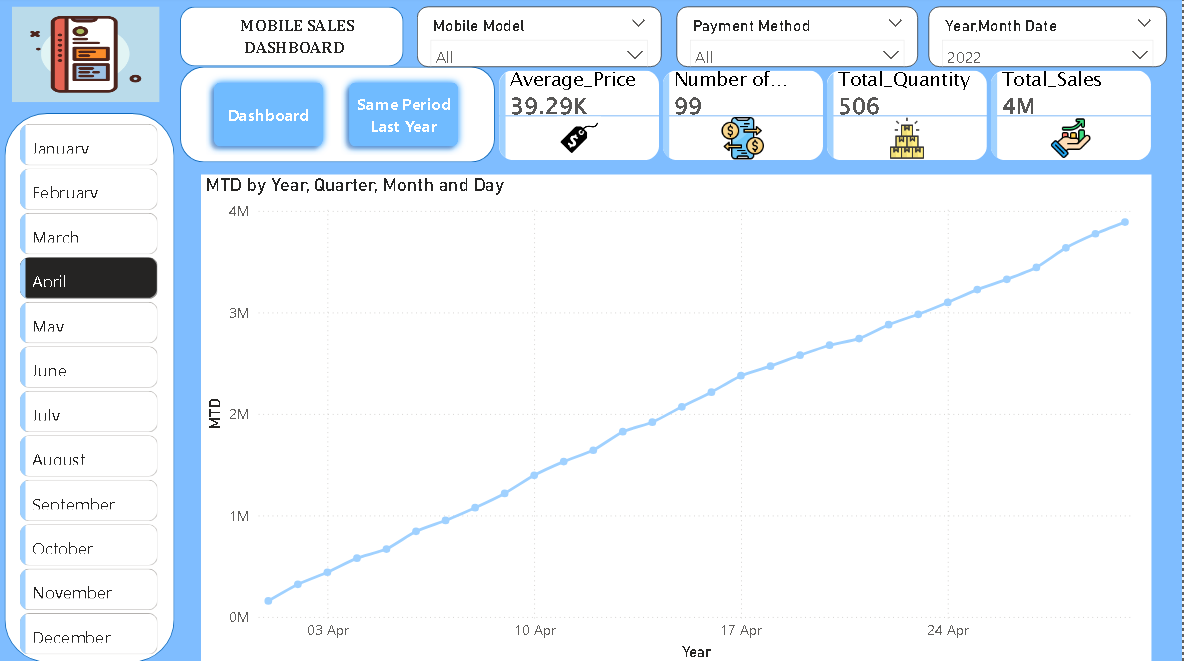

The dashboard page shown, as its layout file describes it:
{"tool":"powerbi","page":{"name":"MTD Report","canvas":[1280,720],"ordinal":1},"visuals":[{"type":"image","box":[16.4,11.5,159.1,103.3],"z":0},{"type":"shape","box":[197.5,76.1,340,103.6],"z":1000},{"type":"cardVisual","fields":{"Data":["Sheet.Average_Price","Sheet.Number of Transactions","Sheet.Total_Quantity","Sheet.Total_Sales"]},"box":[524.6,63.1,738.4,131.2],"z":2000},{"type":"shape","box":[197.5,11.3,241.3,64.8],"z":3000},{"type":"textbox","box":[257.5,13,147.3,59.9],"z":4000},{"type":"lineChart","fields":{"Y":["Sheet.MTD"],"Category":["Query1.Date.Variation.Date Hierarchy.Year","Query1.Date.Variation.Date Hierarchy.Quarter","Query1.Date.Variation.Date Hierarchy.Month","Query1.Date.Variation.Date Hierarchy.Day"]},"box":[220.3,192.7,1026.1,528.6],"z":5000},{"type":"shape","box":[7.3,126.7,183.6,592.9],"z":6000},{"type":"advancedSlicerVisual","fields":{"Values":["Query1.Date.Variation.Date Hierarchy.Month"]},"box":[20.2,132.2,159.7,587.4],"z":7000},{"type":"slicer","fields":{"Values":["Sheet.Mobile Model"]},"box":[452.7,11.5,264.1,65.6],"z":8000},{"type":"slicer","fields":{"Values":["Query1.Date.Variation.Date Hierarchy.Year"]},"box":[1005.5,11.5,257.5,65.6],"z":9000},{"type":"slicer","fields":{"Values":["Sheet.Payment Method"]},"box":[733.2,11.5,260.8,65.6],"z":10000},{"type":"pageNavigator","box":[225.1,84.2,283.4,87.4],"z":11000}]}

Visuals, with their boxes in screenshot pixels (x1, y1, x2, y2), scaled from the page's 1280x720 canvas onto the 1184x661 screenshot:
image: (left=15, top=11, right=162, bottom=105)
shape: (left=183, top=70, right=497, bottom=165)
cardVisual - Sheet.Average_Price x Sheet.Number of Transactions: (left=485, top=58, right=1168, bottom=178)
shape: (left=183, top=10, right=406, bottom=70)
textbox: (left=238, top=12, right=374, bottom=67)
lineChart - Sheet.MTD x Query1.Date.Variation.Date Hierarchy.Year: (left=204, top=177, right=1153, bottom=660)
shape: (left=7, top=116, right=177, bottom=660)
advancedSlicerVisual - Query1.Date.Variation.Date Hierarchy.Month: (left=19, top=121, right=166, bottom=660)
slicer - Sheet.Mobile Model: (left=419, top=11, right=663, bottom=71)
slicer - Query1.Date.Variation.Date Hierarchy.Year: (left=930, top=11, right=1168, bottom=71)
slicer - Sheet.Payment Method: (left=678, top=11, right=919, bottom=71)
pageNavigator: (left=208, top=77, right=470, bottom=158)
